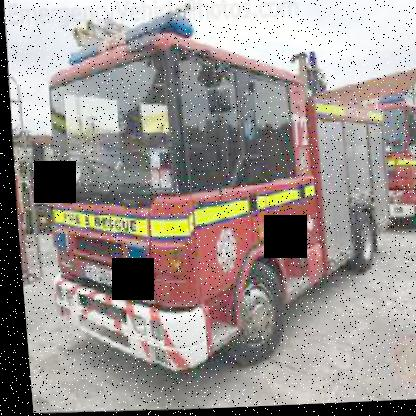emergency: (16, 7, 415, 388)
